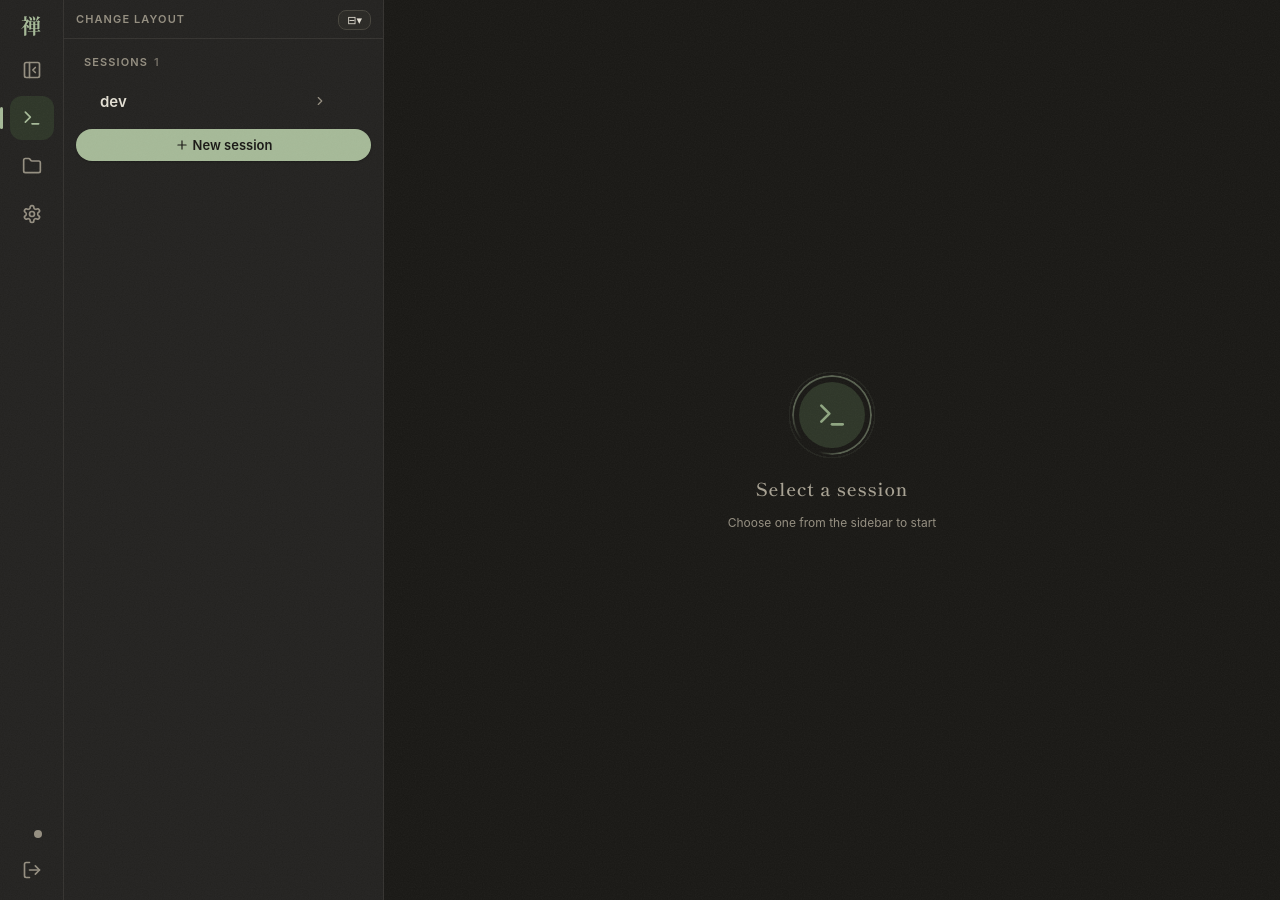
Scenario: SessionsRoute › clicking a window opens TerminalPane with session/window in header
The image size is (1280, 900).
Clicking the session opens its first window directly (and expands the list)
Click the button "dev" at (113, 101), box [76,81,371,121]
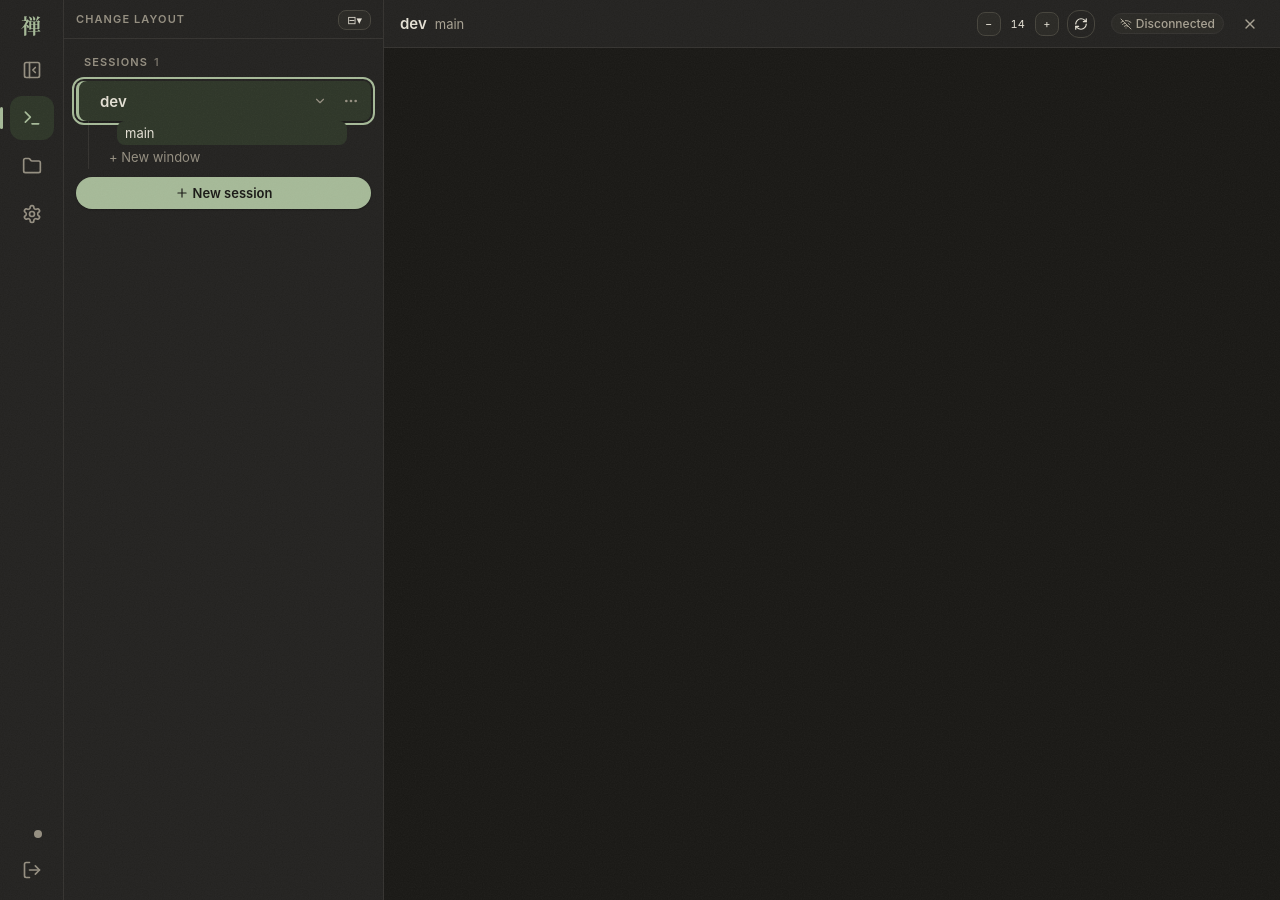
Check: the button "main" is shown, box [117,121,347,145]
